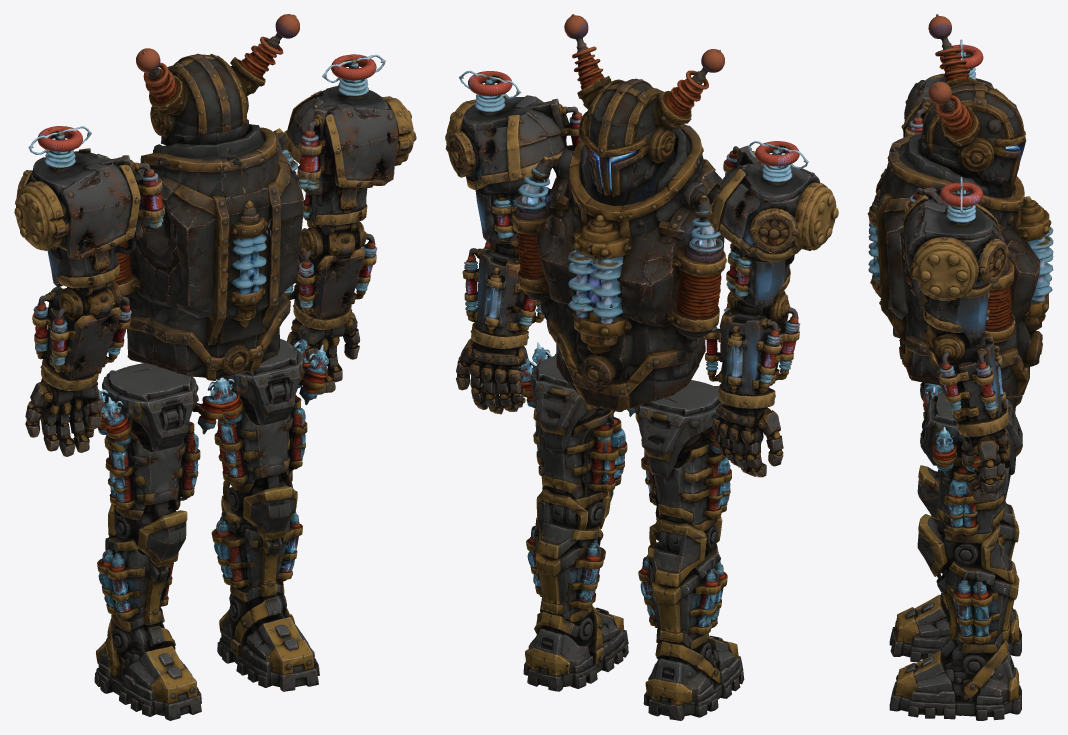
The model's file is Gear_T11.glb.
3 renders of one model, left to right at view 1: azimuth 30°, elevation 25°; view 2: azimuth 150°, elevation 25°; view 3: azimuth 270°, elevation 25°, orthographic. The views are drawn at different scales.
Visible parts, largest first — view 1: Torso_Upper, ArmL_Upper, LegL_Upper, ArmR_Upper, LegR_Upper, Head, ArmL_Lower, LegL_Foot, LegR_Lower, LegR_Foot, LegL_Lower, ArmR_Lower (+3 smaller); view 2: Torso_Upper, ArmL_Upper, ArmR_Upper, LegL_Upper, LegR_Upper, Head, ArmL_Lower, LegL_Lower, LegR_Lower, LegR_Foot, LegL_Foot, ArmR_Lower (+3 smaller); view 3: Torso_Upper, ArmR_Upper, LegR_Foot, LegR_Upper, LegR_Lower, Head, ArmR_Lower, LegL_Foot, ArmR_Hand, ArmL_Upper, LegL_Lower, Torso_Lower (+1 smaller).
Part boxes in pixels (<box>): Torso_Upper: <box>113,101,303,372</box>; ArmL_Upper: <box>14,126,165,293</box>; LegL_Upper: <box>87,363,227,532</box>; ArmR_Upper: <box>284,54,416,233</box>; LegR_Upper: <box>214,338,328,505</box>; Head: <box>136,14,299,128</box>; ArmL_Lower: <box>32,280,131,387</box>; LegL_Foot: <box>94,613,201,720</box>; LegR_Lower: <box>211,482,302,596</box>; LegR_Foot: <box>217,584,319,691</box>; LegL_Lower: <box>97,510,186,624</box>; ArmR_Lower: <box>283,221,377,326</box>; Torso_Upper: <box>512,123,726,384</box>; ArmL_Upper: <box>707,141,838,303</box>; ArmR_Upper: <box>445,70,582,242</box>; LegL_Upper: <box>634,380,731,539</box>; LegR_Upper: <box>518,342,635,511</box>; Head: <box>564,14,724,151</box>; ArmL_Lower: <box>703,291,800,411</box>; LegL_Lower: <box>638,518,727,642</box>; LegR_Lower: <box>526,490,613,614</box>; LegR_Foot: <box>523,605,628,691</box>; LegL_Foot: <box>643,633,744,720</box>; ArmR_Lower: <box>462,234,544,348</box>; Torso_Upper: <box>867,132,1053,381</box>; ArmR_Upper: <box>901,177,1009,335</box>; LegR_Foot: <box>889,638,1021,720</box>; LegR_Upper: <box>918,383,1022,548</box>; LegR_Lower: <box>917,531,1019,647</box>; Head: <box>921,14,1025,153</box>; ArmR_Lower: <box>923,324,1009,436</box>; LegL_Foot: <box>889,592,1021,662</box>; ArmR_Hand: <box>958,427,1010,502</box>; ArmL_Upper: <box>901,39,998,137</box>; LegL_Lower: <box>917,477,1019,559</box>; Torso_Lower: <box>900,357,1039,397</box>.
Size of the model in its own units: 3.82 by 6.25 by 1.68.
Materials: 3 (3 with a texture image).
